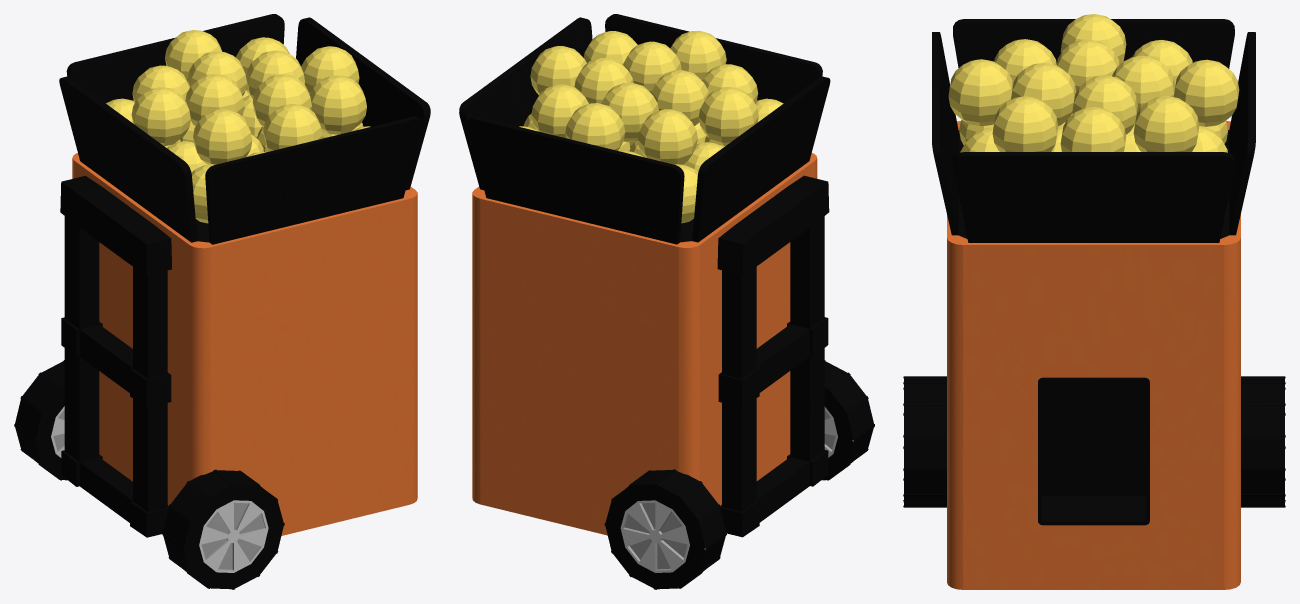
Rendered from carritoPelotas22.fbx.
3 views of the same model, side by side, from view 1: azimuth 30°, elevation 25°; view 2: azimuth 150°, elevation 25°; view 3: azimuth 270°, elevation 25° (orthographic). The views are drawn at different scales.
Parts seen in each view (by area): view 1: Cube, Cube.001, Cylinder.001, Cylinder, Sphere.027, Sphere.029, Sphere.024, Sphere.030, Sphere.025, Sphere.026, Sphere.023, Sphere.017 (+6 smaller); view 2: Cube, Cube.001, Cylinder, Cylinder.001, Sphere.020, Sphere.024, Sphere.017, Sphere.025, Sphere.018, Sphere.021, Sphere.023, Sphere.026 (+6 smaller); view 3: Cube, Cylinder, Cylinder.001, Sphere.030, Sphere.017, Sphere.018, Sphere.027, Sphere.023, Sphere.026, Sphere.022, Sphere.021, Sphere.025 (+5 smaller).
Boxes of the visible parts, x1,y1,x2,y2 form: Cube: [59, 14, 430, 535]; Cube.001: [60, 176, 171, 537]; Cylinder.001: [162, 469, 284, 589]; Cylinder: [14, 360, 67, 480]; Sphere.027: [309, 75, 366, 134]; Sphere.029: [193, 109, 252, 164]; Sphere.024: [131, 87, 190, 146]; Sphere.030: [263, 103, 322, 151]; Sphere.025: [185, 74, 244, 125]; Sphere.026: [252, 74, 311, 126]; Sphere.023: [301, 46, 359, 93]; Sphere.017: [165, 30, 221, 82]; Cube: [459, 14, 830, 535]; Cube.001: [717, 175, 829, 537]; Cylinder: [604, 469, 726, 589]; Cylinder.001: [821, 360, 874, 480]; Sphere.020: [638, 109, 697, 164]; Sphere.024: [698, 87, 758, 145]; Sphere.017: [565, 103, 625, 150]; Sphere.025: [651, 70, 708, 125]; Sphere.018: [531, 84, 588, 138]; Sphere.021: [601, 82, 658, 142]; Sphere.023: [530, 46, 586, 94]; Sphere.026: [623, 41, 681, 92]; Cube: [932, 19, 1255, 589]; Cylinder: [1241, 376, 1285, 507]; Cylinder.001: [903, 376, 946, 507]; Sphere.030: [948, 59, 1013, 126]; Sphere.017: [1173, 59, 1239, 126]; Sphere.018: [1133, 96, 1199, 151]; Sphere.027: [992, 96, 1058, 151]; Sphere.023: [1060, 107, 1126, 151]; Sphere.026: [1011, 63, 1076, 126]; Sphere.022: [1072, 75, 1137, 134]; Sphere.021: [1112, 55, 1175, 114]; Sphere.025: [1057, 39, 1119, 91].
Size of the model in its own units: 195 by 303 by 212.
Materials: 2 (2 with a texture image).
